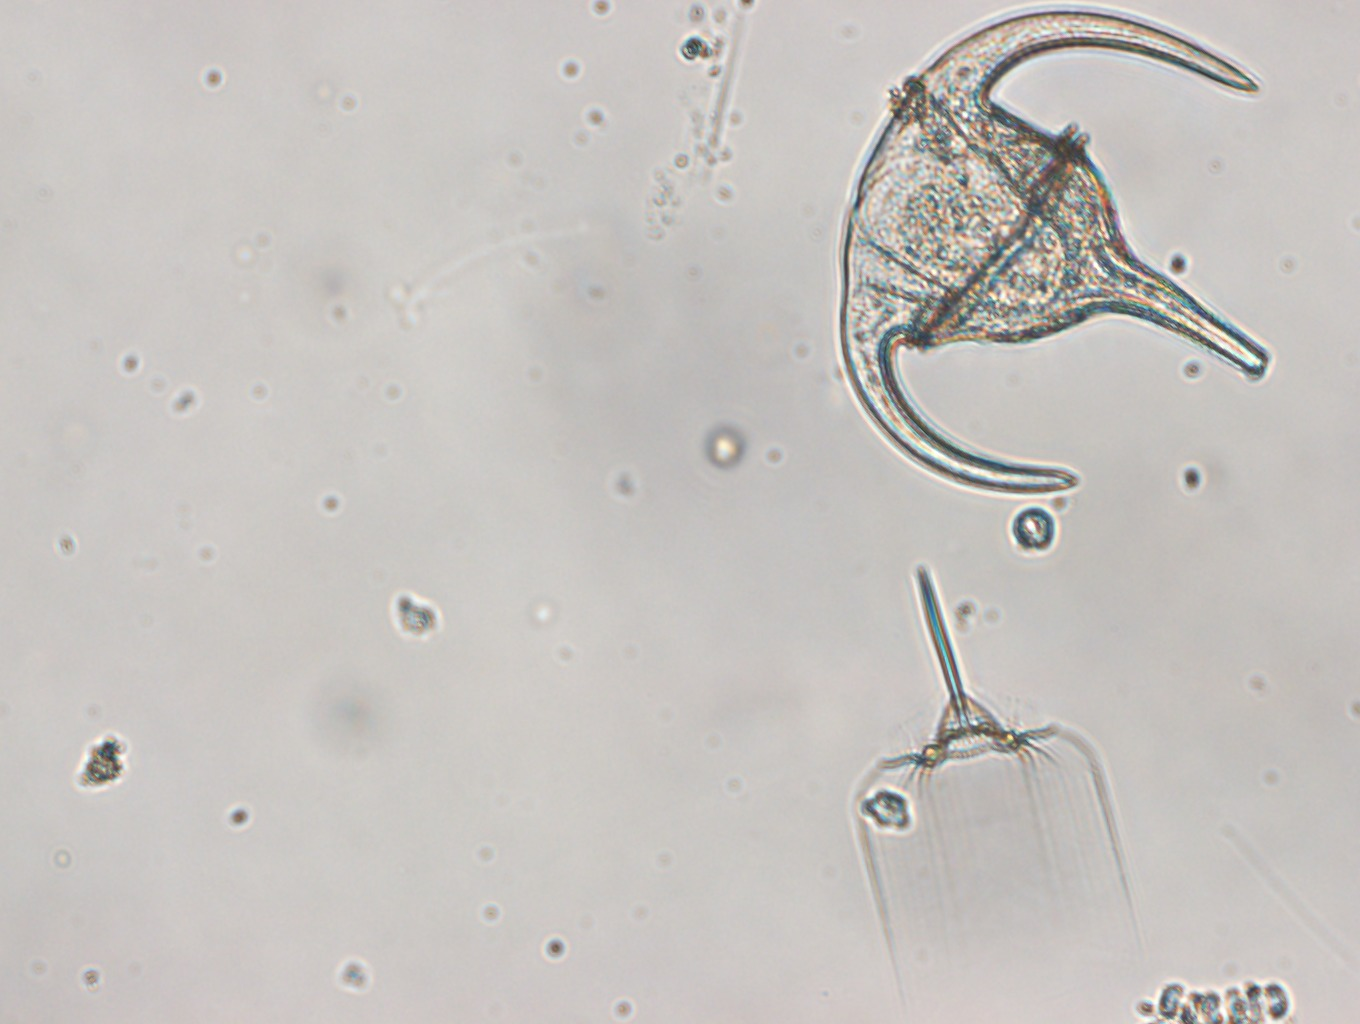ceratium tripos: (836, 8, 1270, 496)
ditylum: (848, 561, 1141, 1000)
